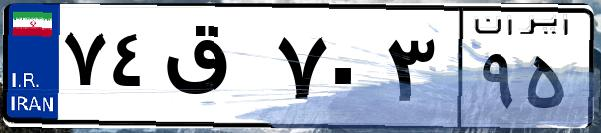0: (330, 28, 385, 110)
3: (385, 28, 445, 110)
4: (110, 28, 158, 98)
5: (525, 38, 570, 115)
7: (270, 28, 330, 110), (57, 26, 110, 100)
9: (475, 38, 525, 113)
ق: (158, 20, 270, 120)
